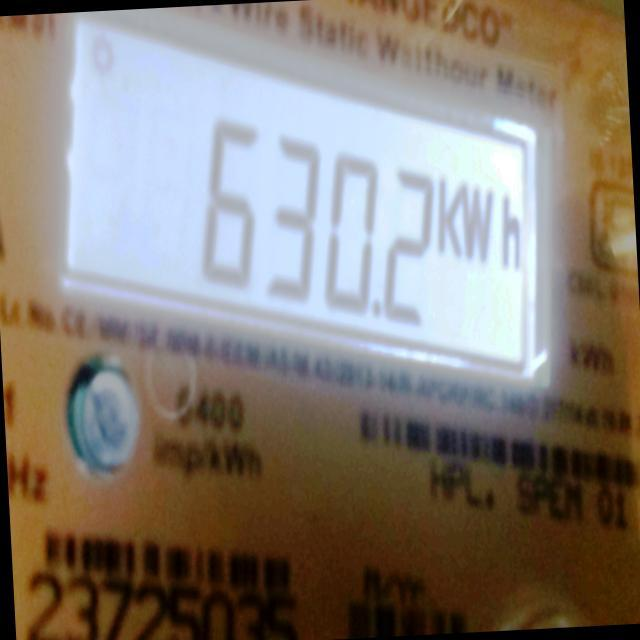LCD: (58, 13, 586, 404)
